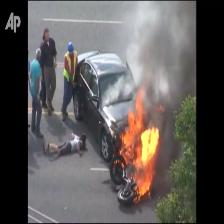fire: (118, 111, 159, 194)
